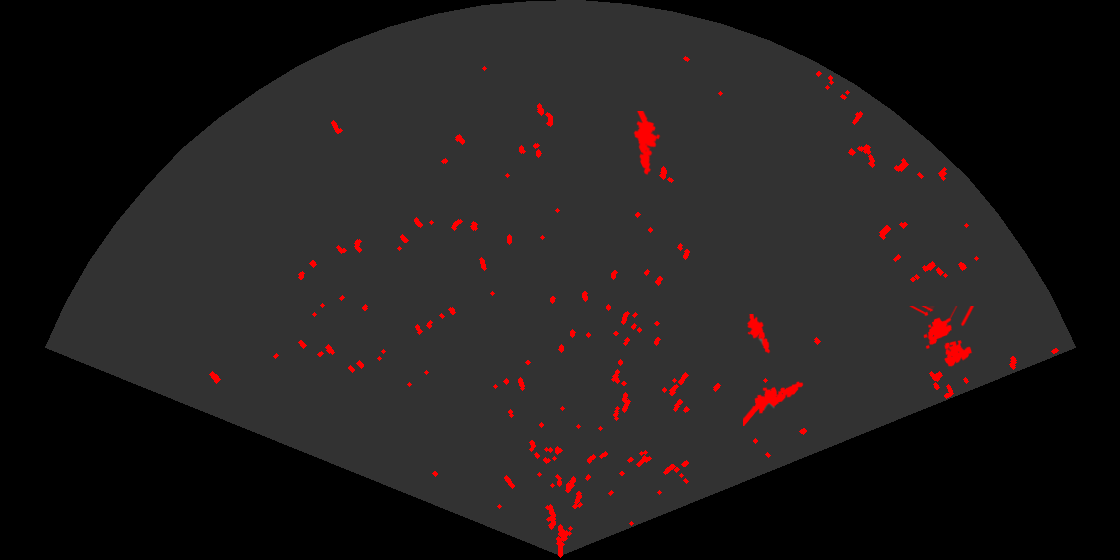cage: (908, 306, 976, 368)
frogman: (743, 380, 805, 426), (632, 111, 662, 176), (746, 314, 772, 354)
